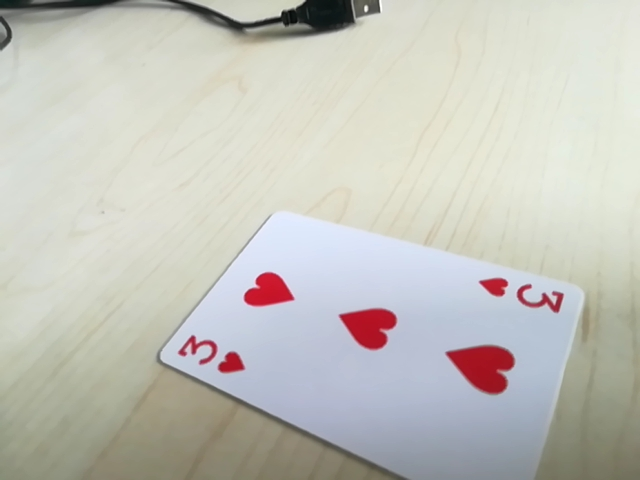hx 3: (169, 328, 251, 381), (475, 273, 572, 317)
